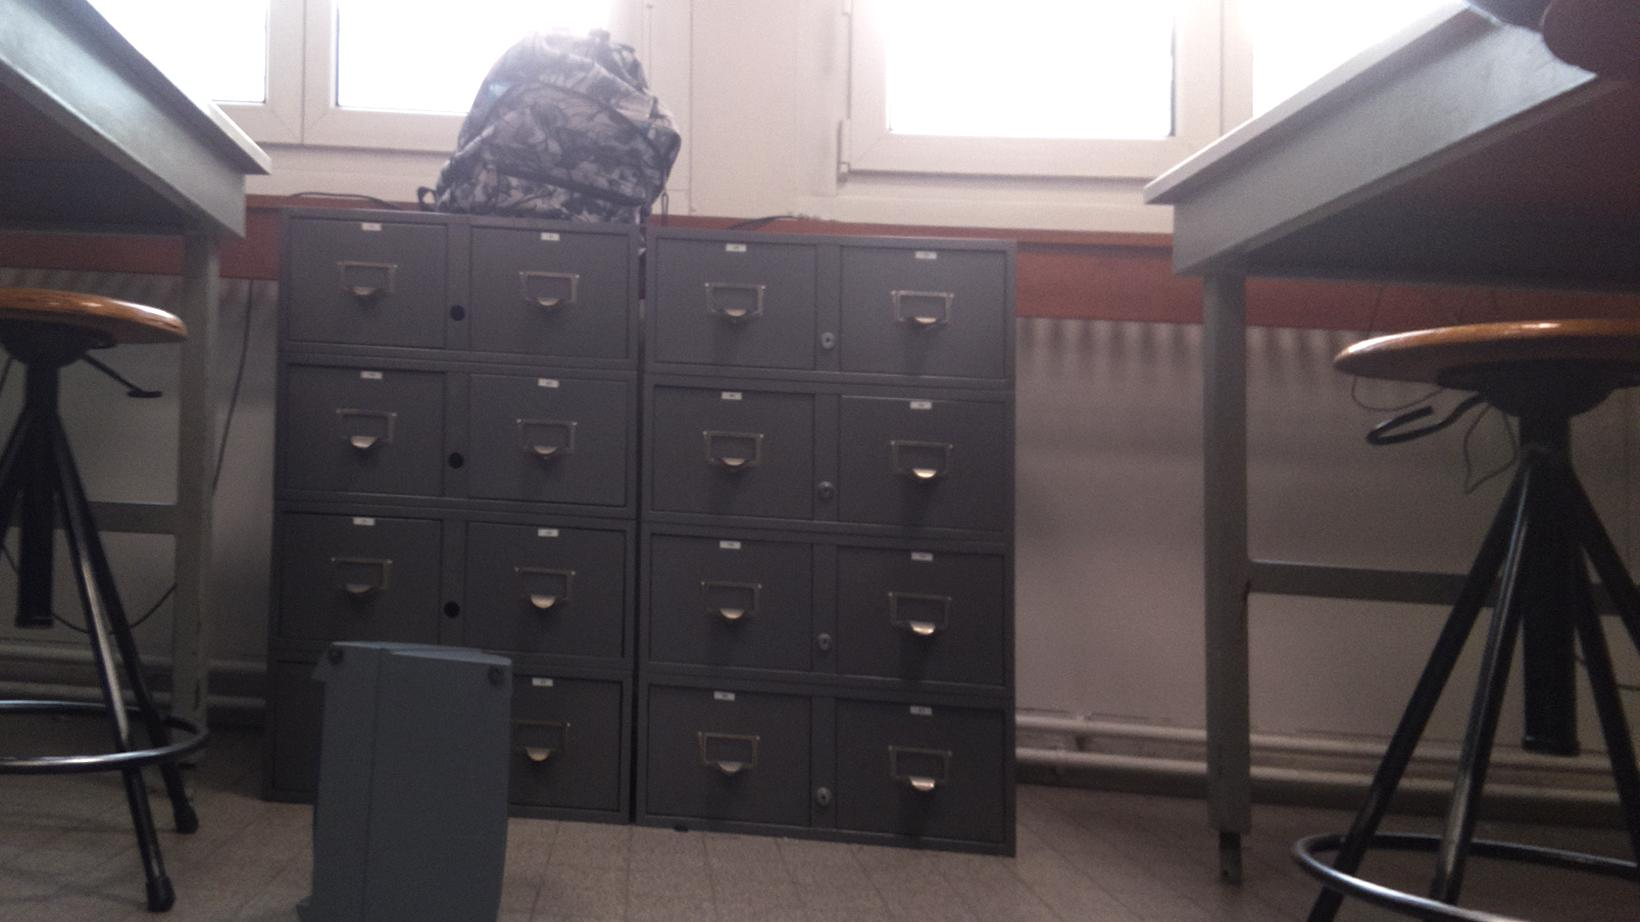big: (409, 28, 683, 231)
medium: (293, 632, 518, 922)
